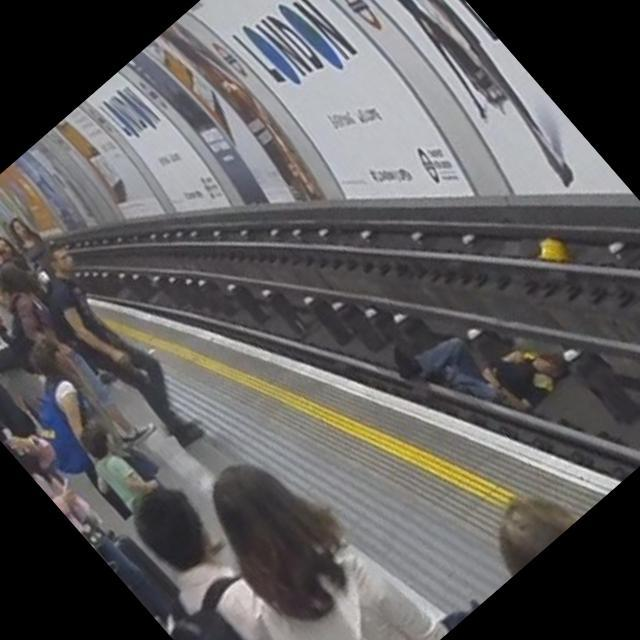person: (173, 427, 445, 640), (18, 233, 228, 462), (98, 474, 365, 640), (381, 263, 583, 466), (0, 324, 119, 452), (65, 406, 164, 508), (0, 266, 57, 404), (0, 205, 57, 268)
